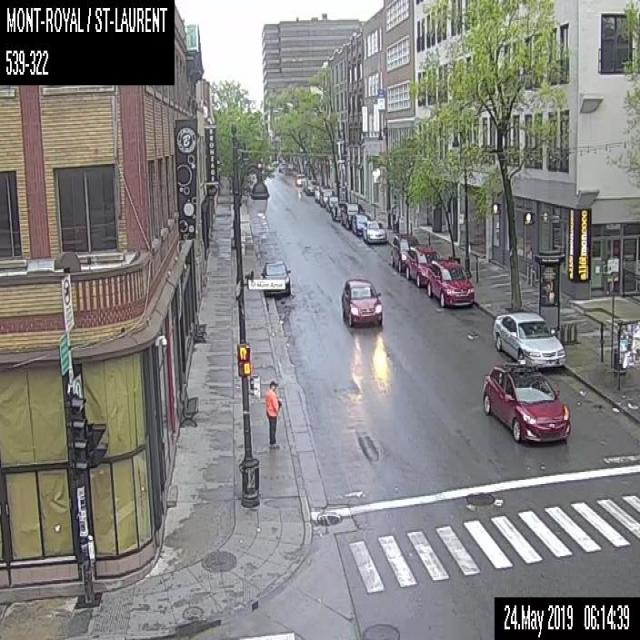pedestrian: (265, 377, 280, 448)
vehicle: (482, 366, 569, 444), (492, 312, 565, 368), (427, 258, 474, 308), (340, 276, 384, 328), (261, 259, 292, 297), (406, 246, 435, 286), (390, 234, 418, 270), (362, 219, 386, 245), (341, 200, 359, 228), (350, 213, 370, 236), (330, 200, 341, 222), (319, 189, 332, 207), (295, 172, 305, 186), (306, 180, 315, 194), (314, 185, 320, 201)
